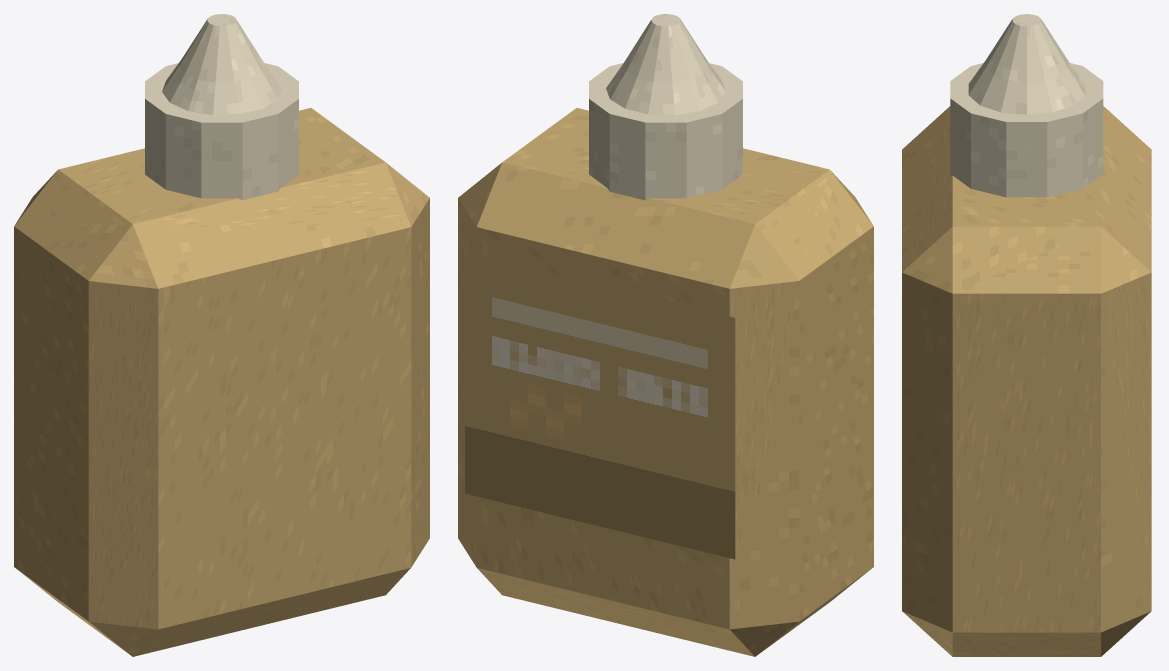
The model's file is hair_dye_blond.glb.
3 views of the same model, side by side, from view 1: azimuth 30°, elevation 25°; view 2: azimuth 150°, elevation 25°; view 3: azimuth 270°, elevation 25° (orthographic).
Visible parts, largest first — view 1: block_squeeze bottle, block_pointed dispenser, block_dispenser tip; view 2: block_squeeze bottle, block_salon dye label, block_pointed dispenser, block_dispenser tip; view 3: block_squeeze bottle, block_pointed dispenser, block_dispenser tip.
Part boxes in pixels (x1,y1,x2,y2): block_squeeze bottle: (14,108,429,656); block_pointed dispenser: (145,63,298,200); block_dispenser tip: (155,14,281,130); block_squeeze bottle: (458,108,873,656); block_salon dye label: (465,252,735,559); block_pointed dispenser: (589,63,742,200); block_dispenser tip: (606,14,732,130); block_squeeze bottle: (902,106,1151,656); block_pointed dispenser: (950,63,1103,197); block_dispenser tip: (968,14,1085,146).
Bounding box in the file's own units: 0.0742 × 0.1203 × 0.0479.
Materials: 1 (1 with a texture image).
